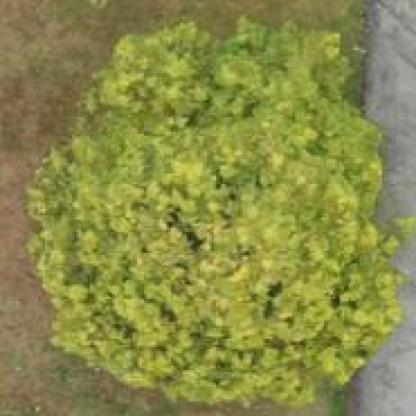Deciduous Tree: (18, 17, 411, 408)
